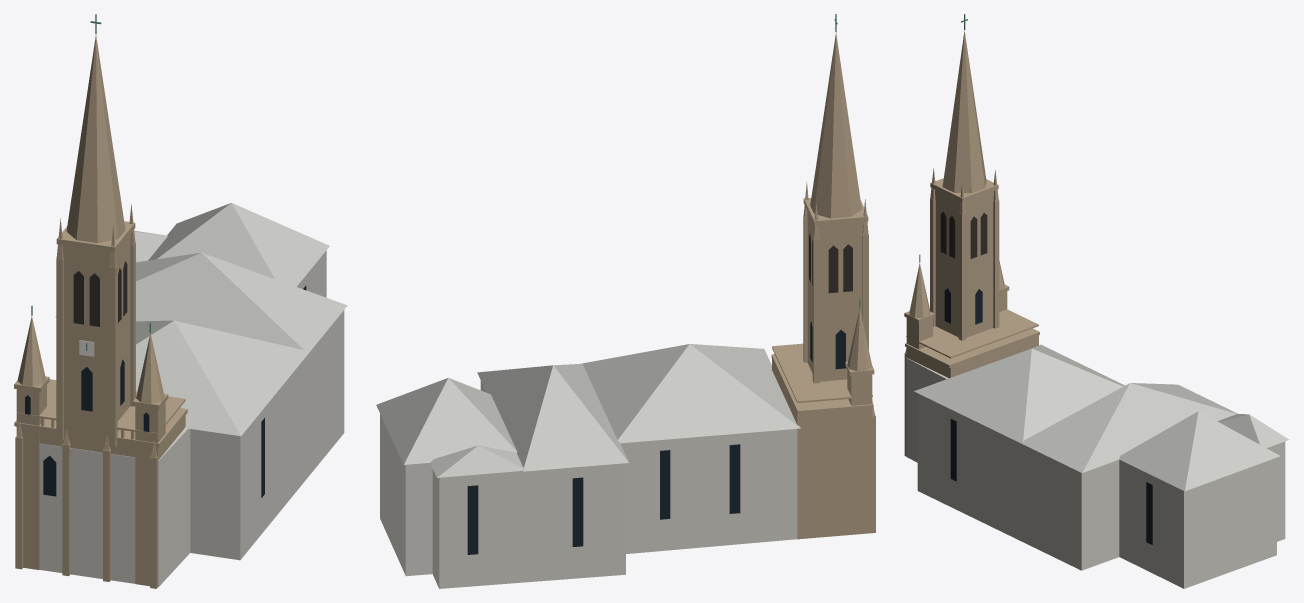
File: ludwigskirche.glb
The picture shows the model from 3 angles, left to right: view 1: azimuth 30°, elevation 25°; view 2: azimuth 150°, elevation 25°; view 3: azimuth 270°, elevation 25°; orthographic projection. The views are drawn at different scales.
Visible parts, largest first — view 1: ludwigskirche_lod0; view 2: ludwigskirche_lod0; view 3: ludwigskirche_lod0.
Part boxes in pixels (x1,y1,x2,y2): ludwigskirche_lod0: (14,14,347,588); ludwigskirche_lod0: (376,14,875,588); ludwigskirche_lod0: (904,14,1289,588).
Size of what is drawn, in the model's own units: 50.7 by 61.2 by 49.36.
